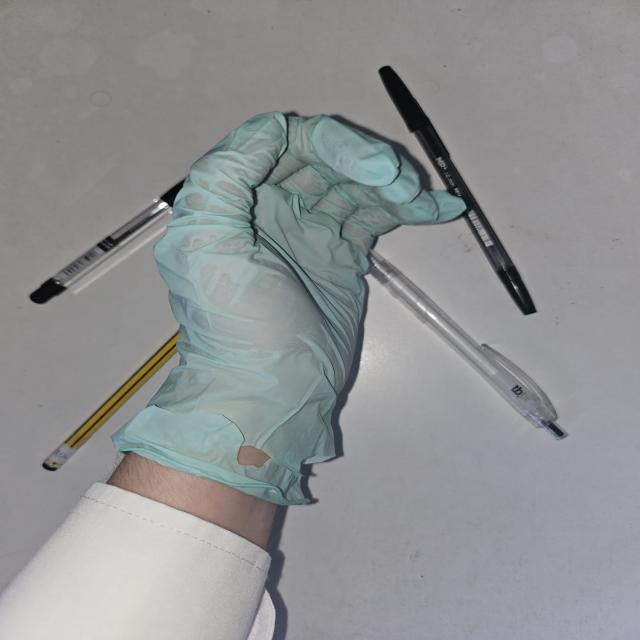gloves_damaged: (106, 108, 468, 502)
